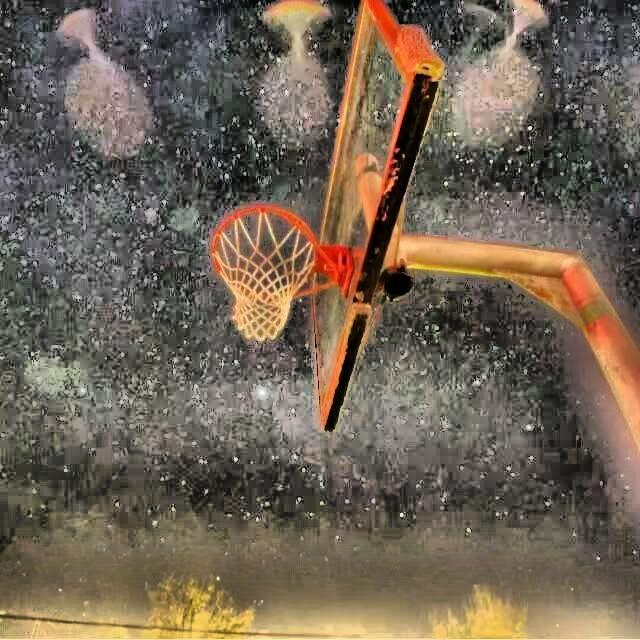rim: (210, 205, 314, 342)
